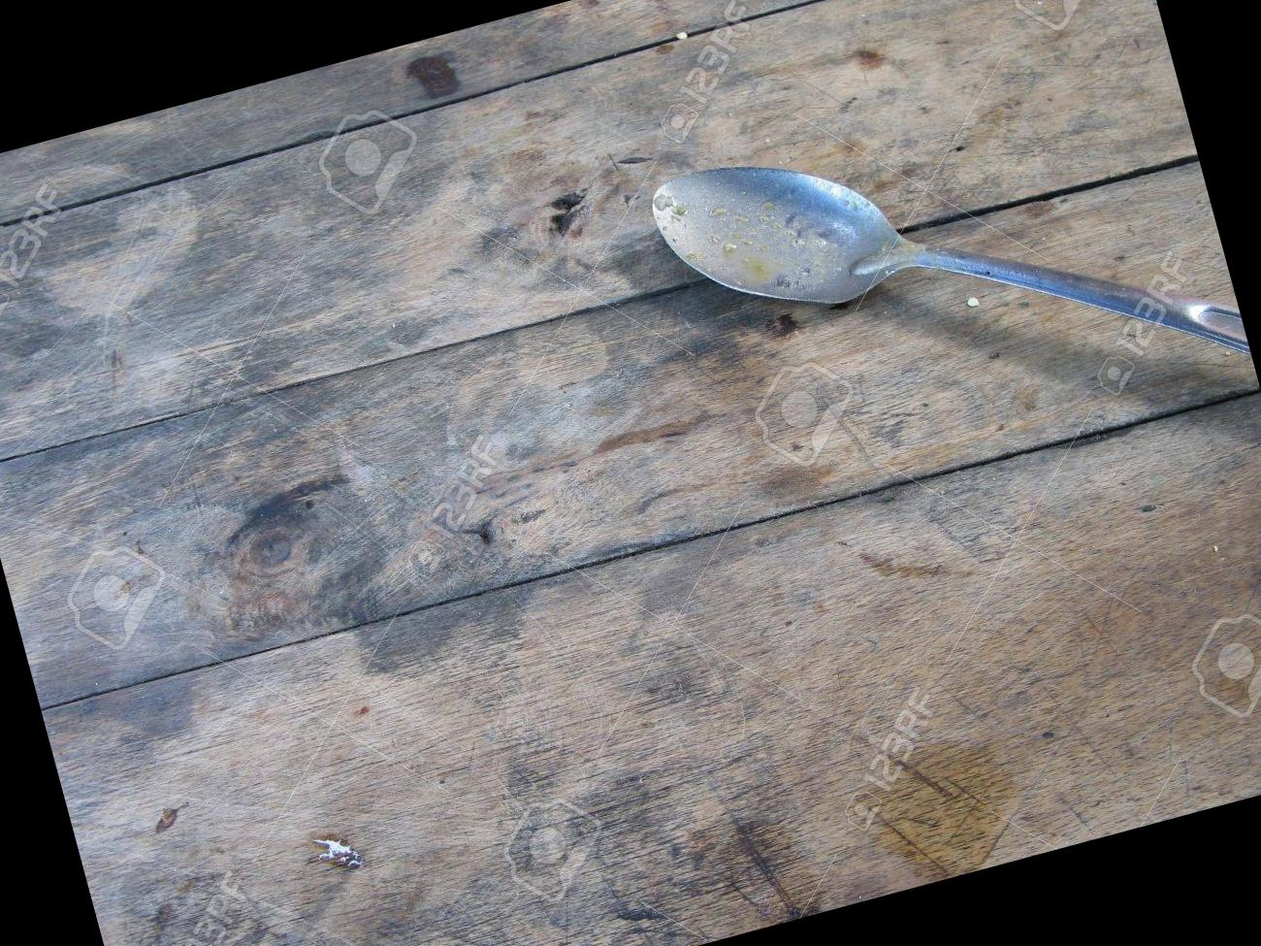Plastik: (644, 41, 1252, 496)
